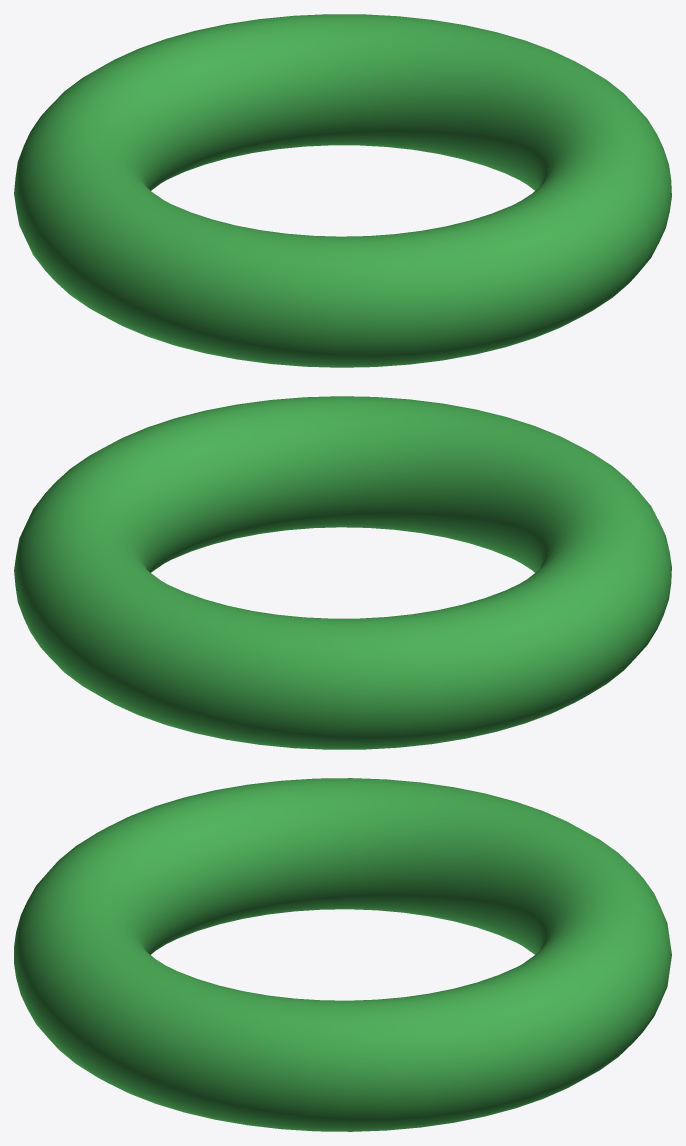
3 renders of one model, top to bottom at view 1: azimuth 30°, elevation 25°; view 2: azimuth 150°, elevation 25°; view 3: azimuth 270°, elevation 25°, orthographic.
Visible parts, largest first — view 1: Part; view 2: Part; view 3: Part.
Boxes of the visible parts, x1,y1,x2,y2 form: Part: (14, 14, 671, 367); Part: (14, 396, 671, 749); Part: (14, 778, 671, 1131).
Bounding box in the file's own units: 0.1269 × 0.0254 × 0.1269.
